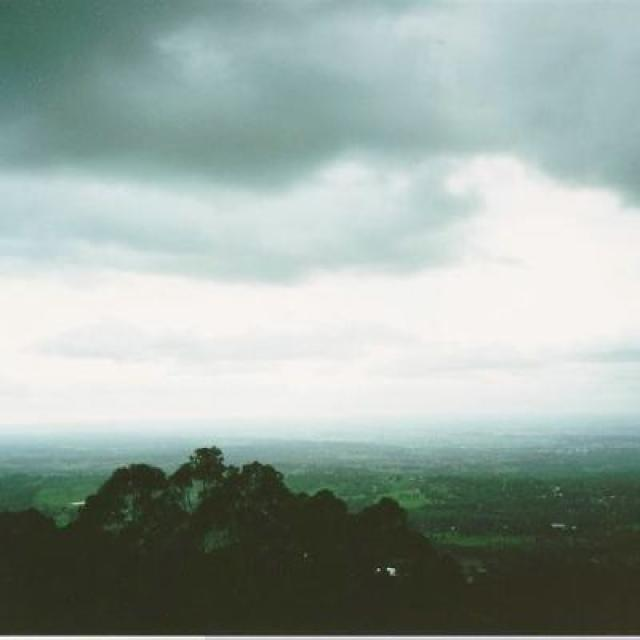Sc: (1, 10, 640, 415)
